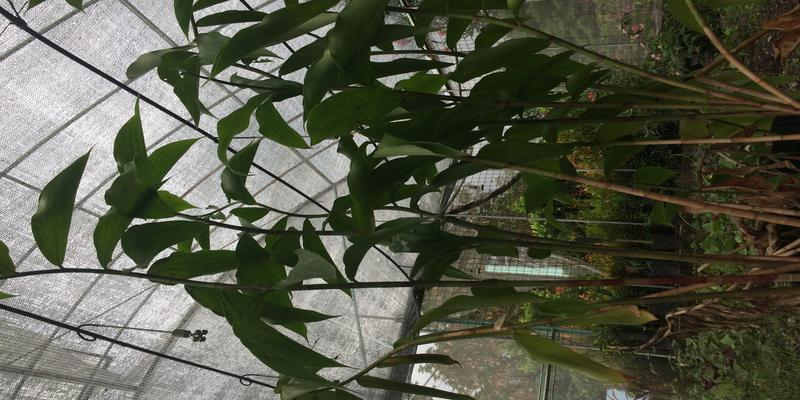Insulin: (178, 1, 745, 313)
